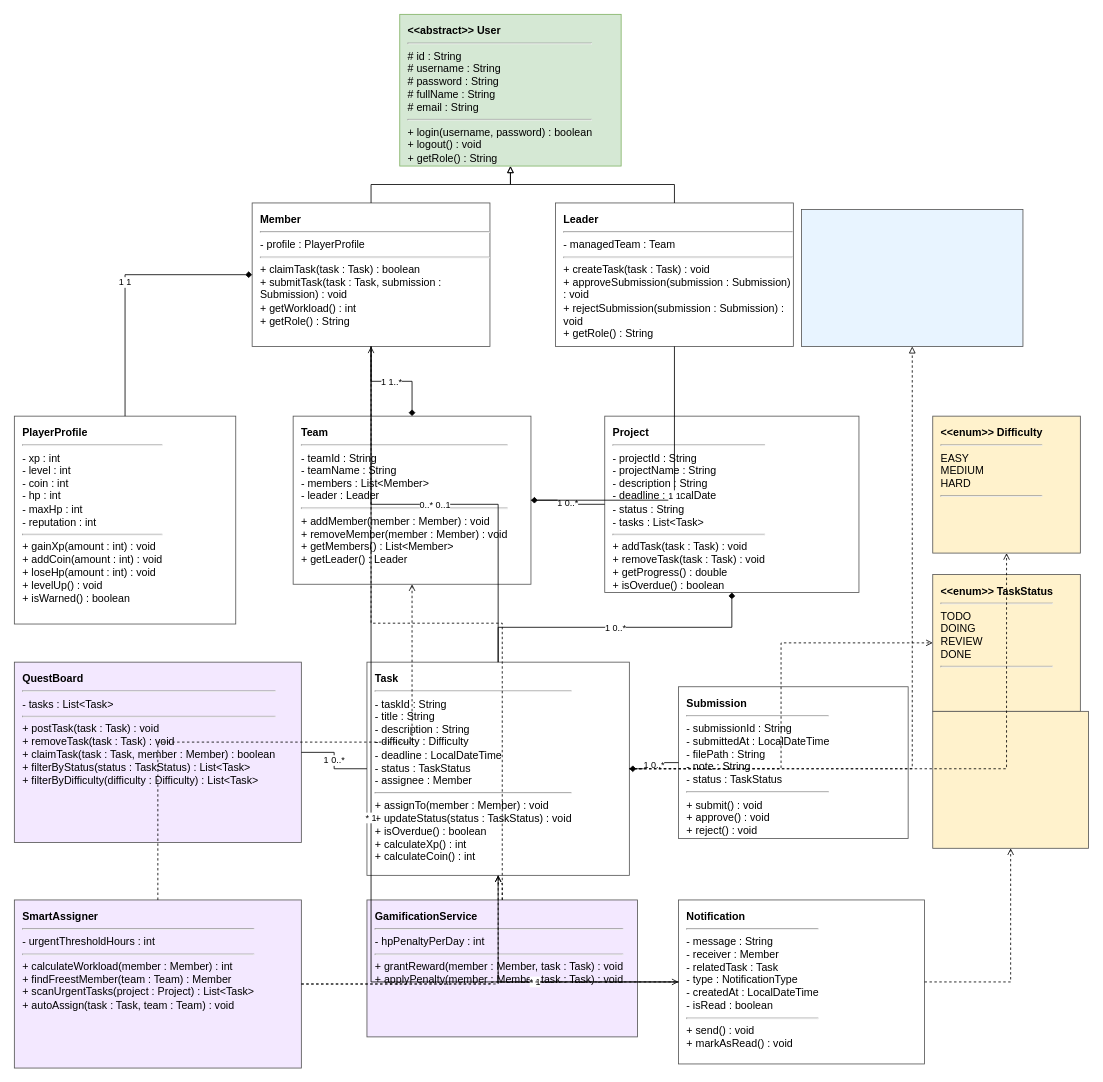
The diagram is 1103 pixels wide and 1082 high, and some of its shapes have lost their labels. Here are the shapes that lost their labels. From the top down, the centre of each, then its label:
At [912,277]: "<<interface>> Rewardable + calculateXp() : int + calculateCoin() : int".
At [1010,779]: "<<enum>> NotificationType NORMAL URGENT".
